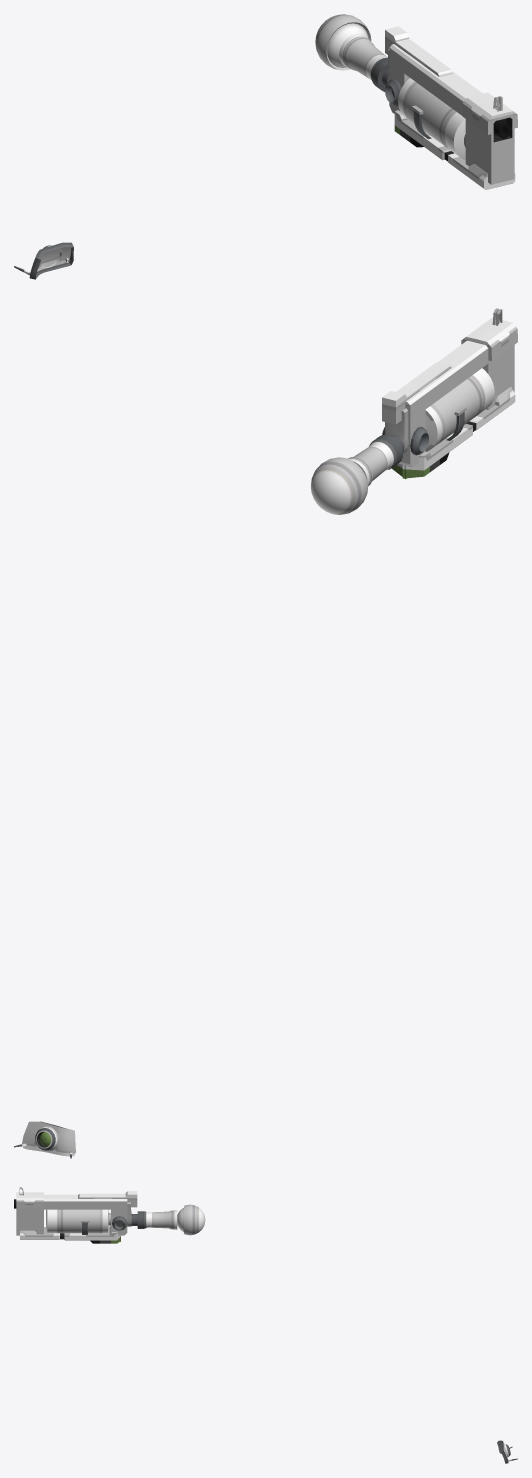
File: CaptainGunPrefab.fbx
The picture shows the model from 3 angles, top to bottom: view 1: azimuth 30°, elevation 25°; view 2: azimuth 150°, elevation 25°; view 3: azimuth 270°, elevation 25°; orthographic projection. The views are drawn at different scales.
Visible parts, largest first — view 1: CaptainGunPrefab; view 2: CaptainGunPrefab; view 3: CaptainGunPrefab.
Part boxes in pixels (x1,y1,x2,y2): CaptainGunPrefab: (14,14,517,279); CaptainGunPrefab: (14,308,517,1158); CaptainGunPrefab: (14,1187,517,1463).
Size of the model in its own units: 25.87 by 212 by 356.
